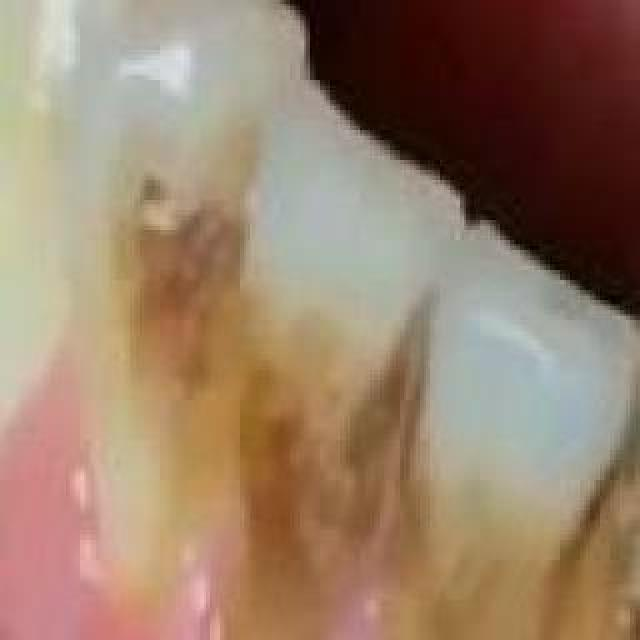stains: (201, 265, 429, 627), (361, 352, 615, 640), (106, 132, 298, 446), (604, 450, 640, 640)
